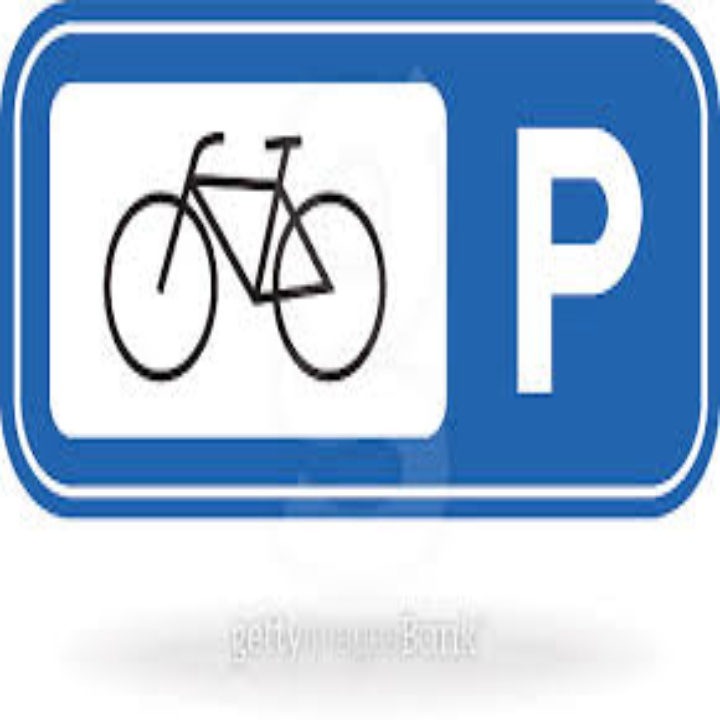bicycle: (106, 126, 384, 385)
parking: (511, 119, 650, 398)
